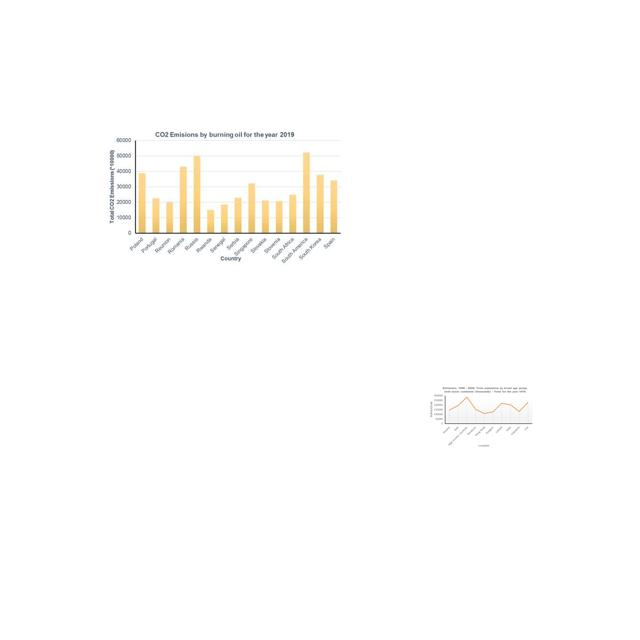Graph: (107, 128, 344, 266), (428, 385, 534, 449)
